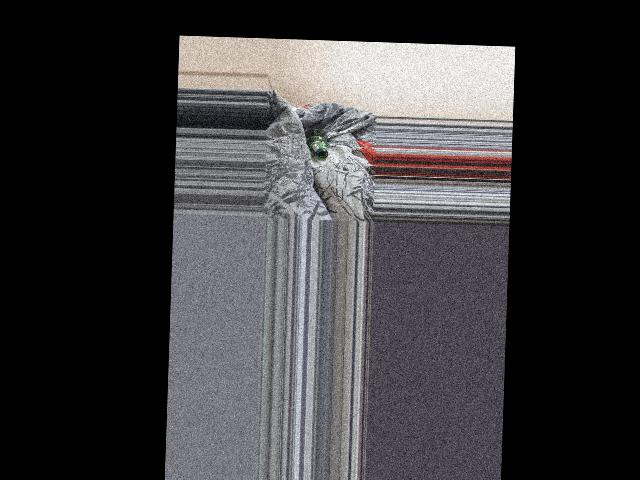beer: (305, 130, 328, 158)
